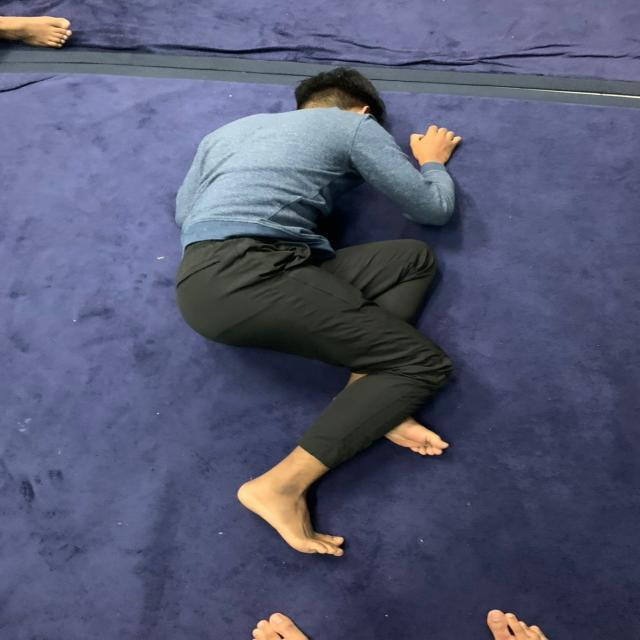fall: (167, 58, 465, 562)
